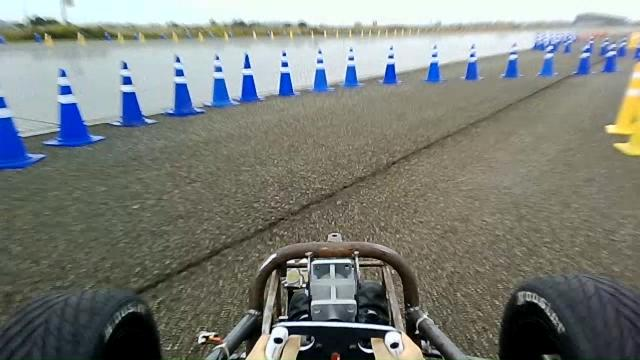blue cone: (42, 67, 105, 147), (0, 81, 37, 168), (109, 60, 157, 127), (163, 54, 205, 116), (202, 53, 240, 108), (233, 52, 265, 102), (311, 48, 335, 92), (276, 50, 297, 96)
yellow cone: (604, 61, 639, 133)
